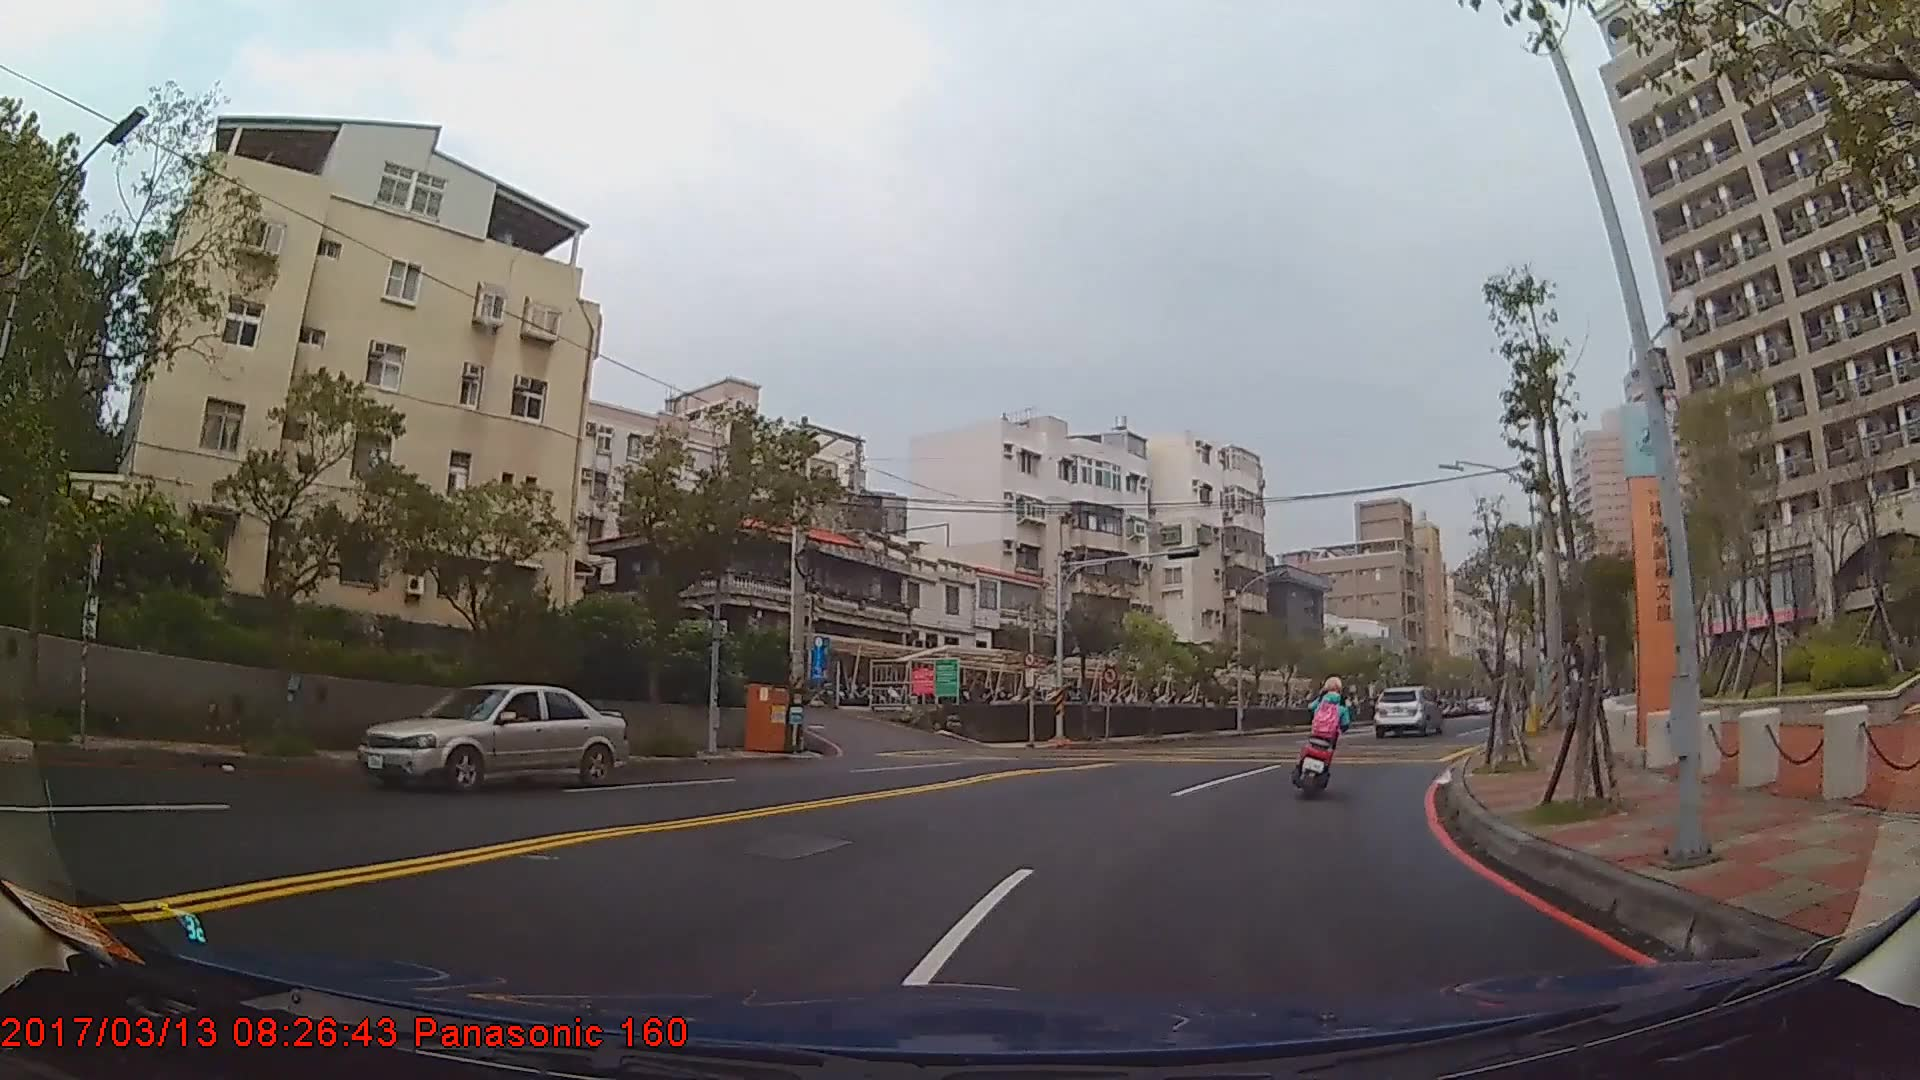rider: (1296, 675, 1355, 793)
vehicle: (354, 681, 626, 793), (1373, 683, 1440, 737)
